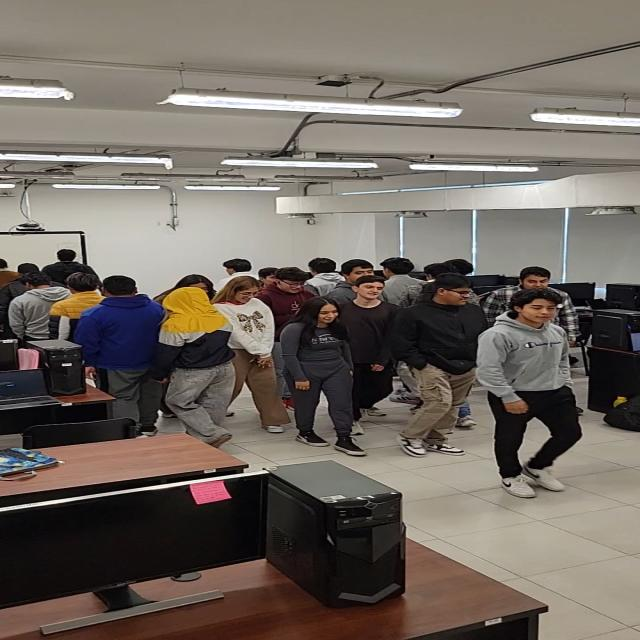Persona: (481, 286, 598, 502), (398, 276, 486, 460), (70, 276, 168, 440), (277, 293, 365, 460), (156, 288, 236, 452), (211, 276, 279, 437), (341, 275, 396, 439), (15, 274, 54, 353)
